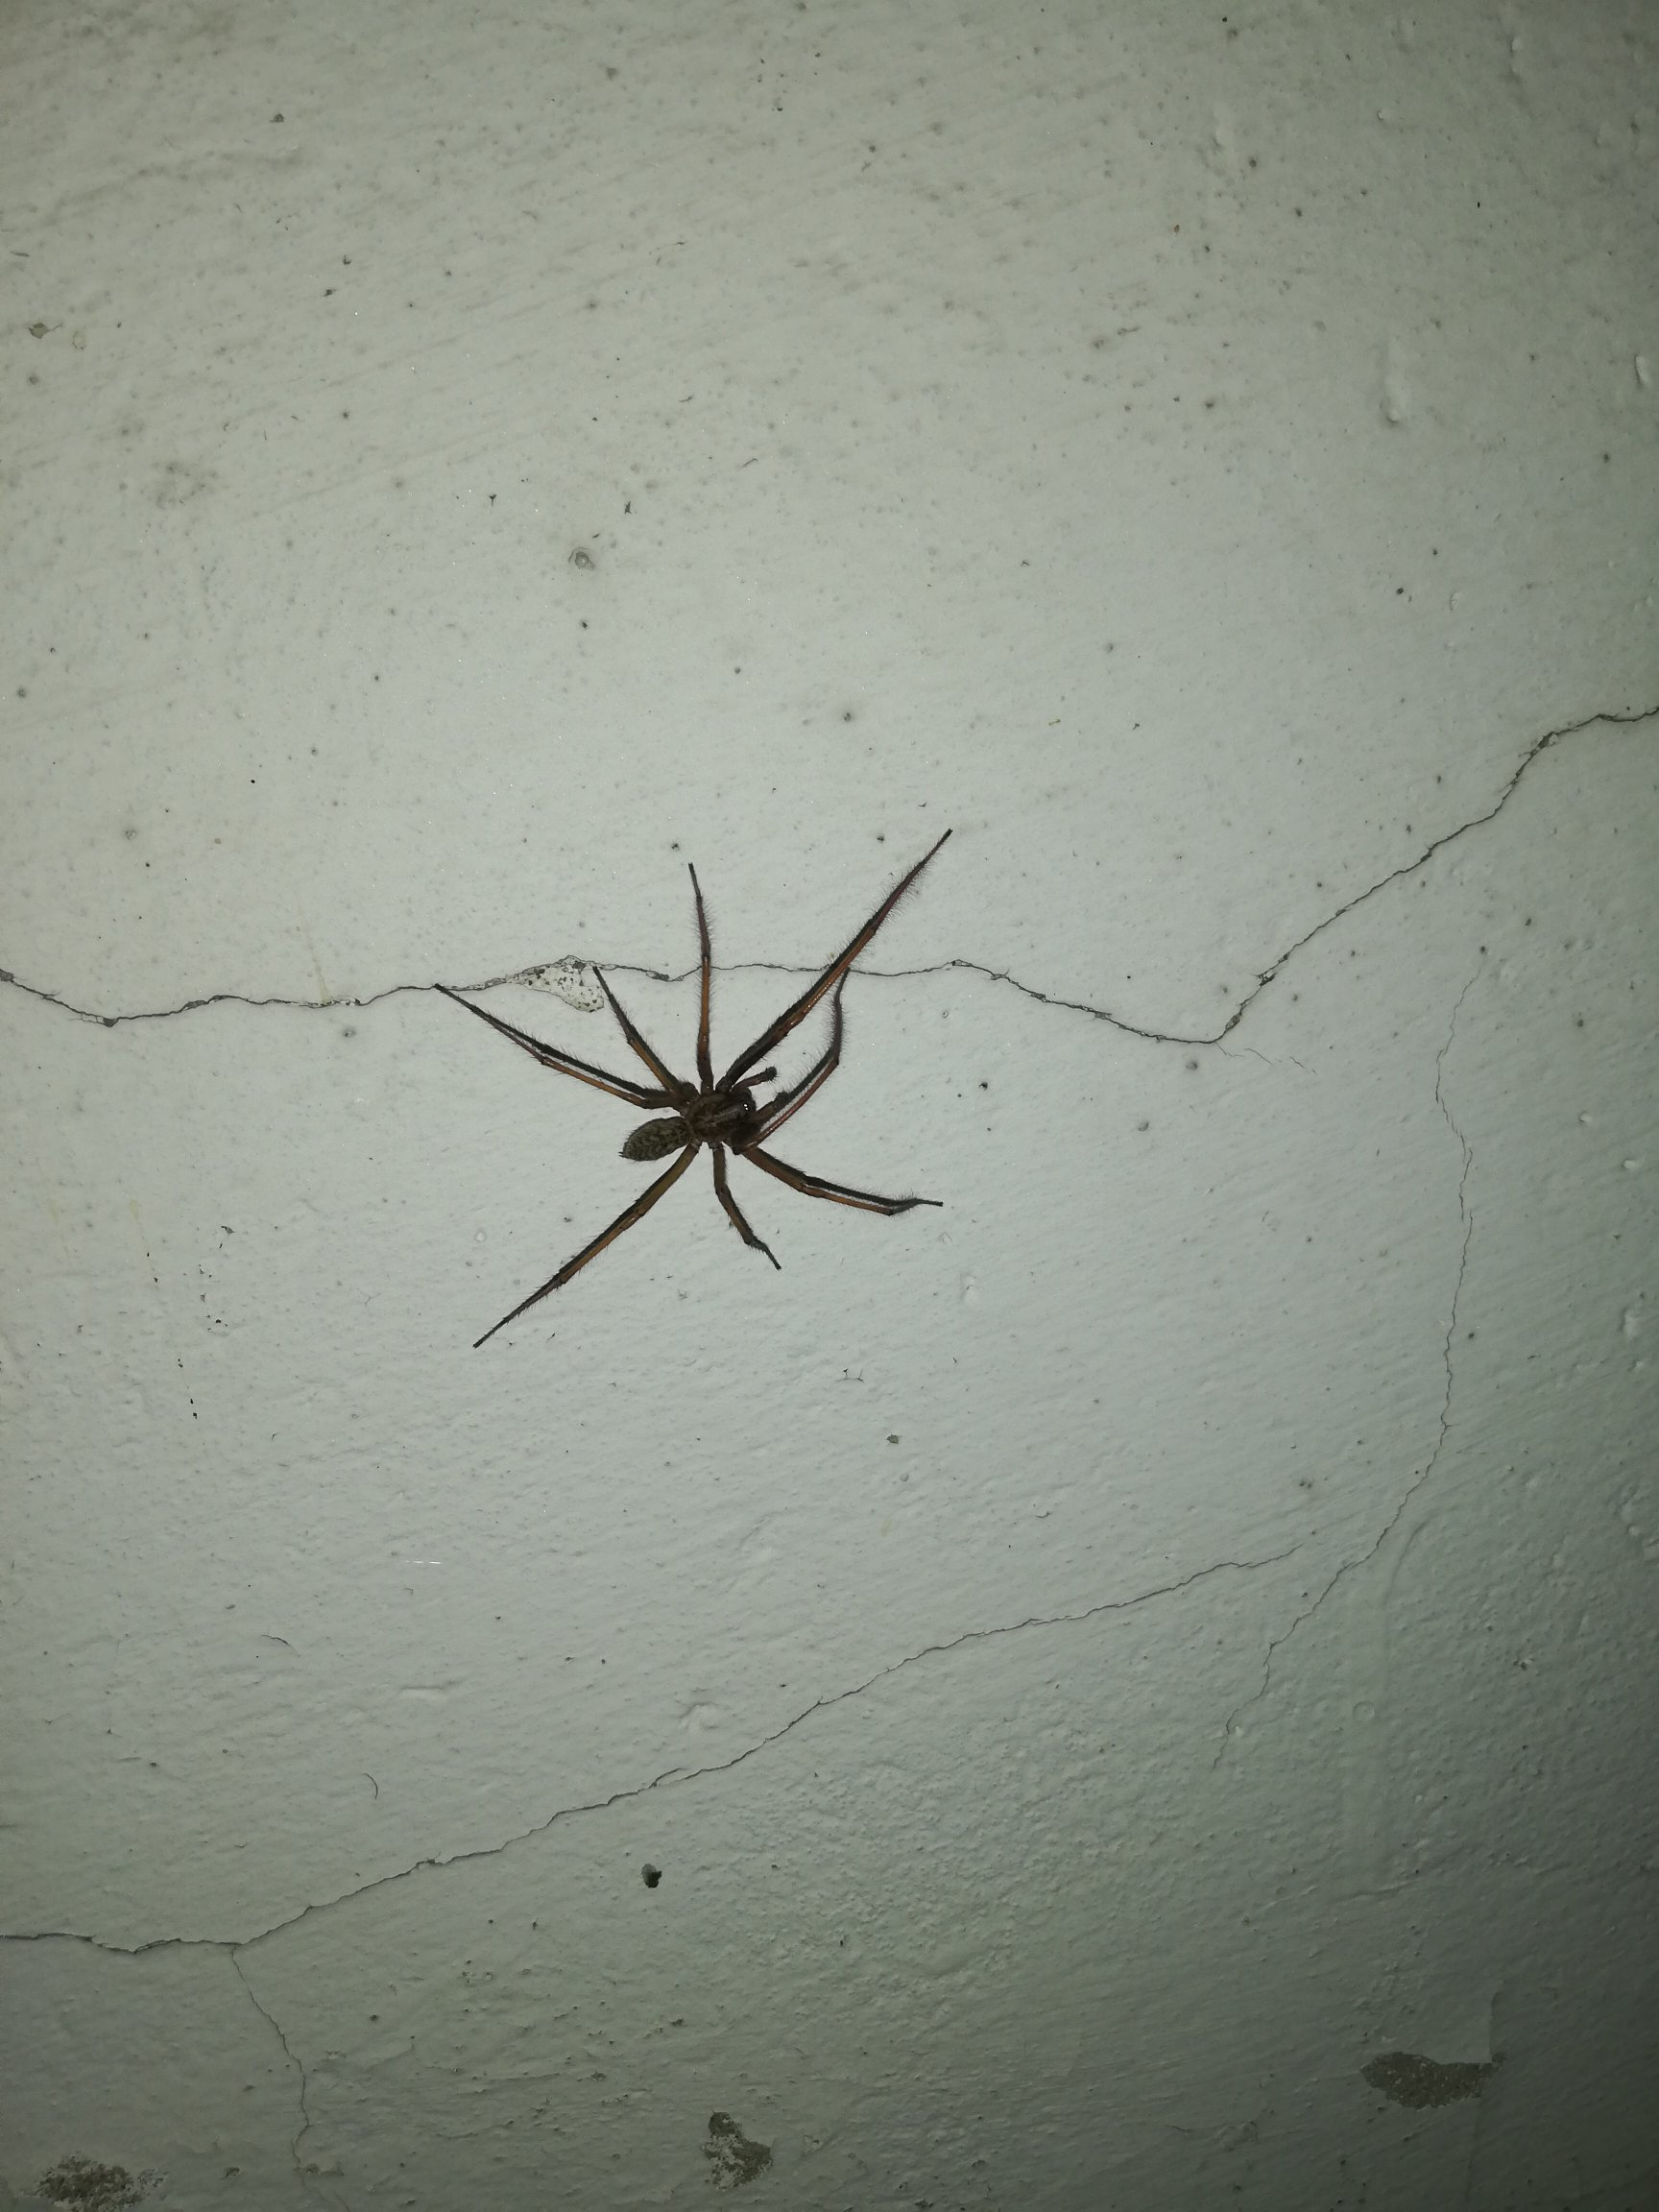spider: (408, 775, 999, 1372)
